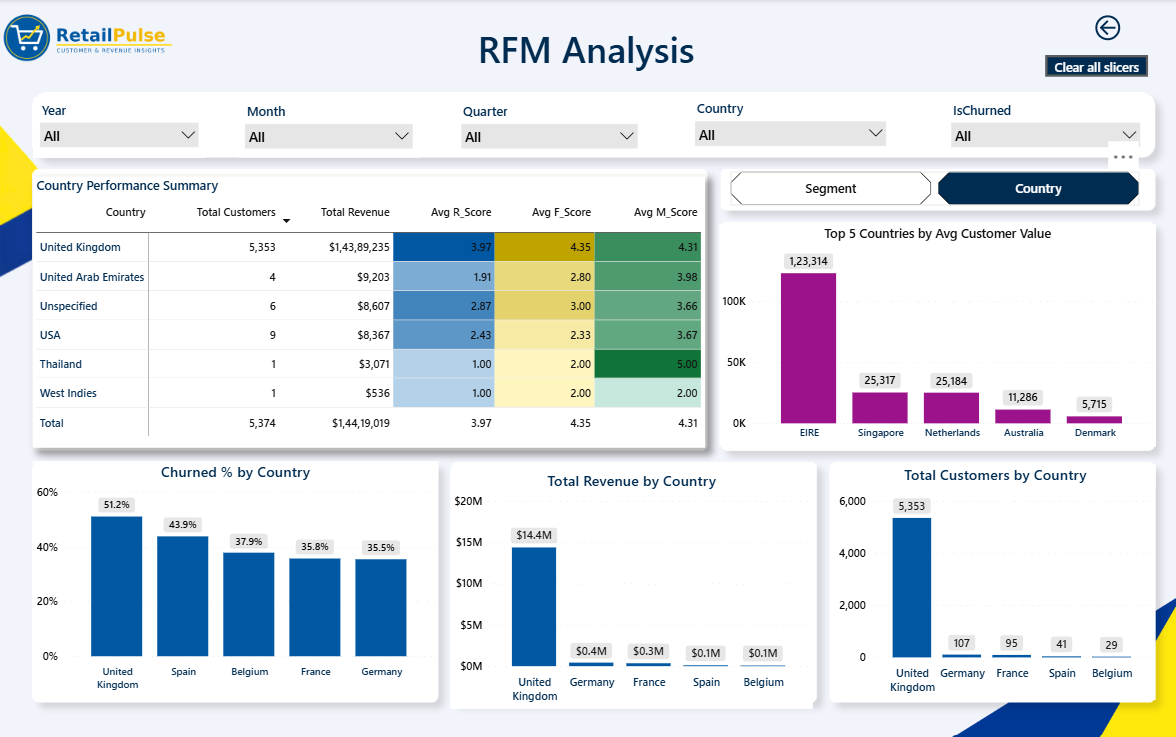

What the dashboard file says about the page in this screenshot:
{"tool":"powerbi","page":{"name":"RFM Analysis","canvas":[1750,1100],"ordinal":1},"visuals":[{"type":"slicer","fields":{"Values":["Sheet1.InvoiceDate.Variation.Date Hierarchy.Year"]},"box":[51.6,145.6,254.4,88.5],"z":0},{"type":"lineChart","fields":{"Category":["Sheet1.InvoiceMonth.Variation.Date Hierarchy.Month"],"Y":["Sheet1.Churned %"]},"box":[50.6,694.8,597.5,346.4],"z":0,"group":"g1"},{"type":"slicer","fields":{"Values":["Sheet1.InvoiceDate.Variation.Date Hierarchy.Month"]},"box":[353.9,147.5,267.3,86.6],"z":1000},{"type":"lineChart","fields":{"Category":["Sheet1.InvoiceMonth.Variation.Date Hierarchy.Quarter"],"Y":["Sheet1.Churned %"]},"box":[672.4,684.6,520.5,350.4],"z":1000,"group":"g1"},{"type":"slicer","fields":{"Values":["Sheet1.InvoiceDate.Variation.Date Hierarchy.Quarter"]},"box":[672.8,147.5,280.2,82.9],"z":2000},{"type":"pivotTable","title":"Segment Performance Summary","fields":{"Rows":["Sheet1.Segment"],"Values":["Sheet1.Total Customers","Sheet1.Total Revenue","Avg(Sheet1.R_Score)","Avg(Sheet1.F_Score)","Avg(Sheet1.M_Score)"]},"box":[51.3,259.3,991.1,405.1],"z":2000,"group":"g1"},{"type":"slicer","fields":{"Values":["Sheet1.Country"]},"box":[1017.4,143.8,302.3,88.5],"z":3000},{"type":"columnChart","title":"Segment by Avg Customer Value","fields":{"Category":["Sheet1.Segment"],"Y":["Sheet1.Avg Customers Value"]},"box":[1061.3,332.2,644.1,328.1],"z":3000,"group":"g1"},{"type":"slicer","fields":{"Values":["Sheet1.IsChurned"]},"box":[1395.3,145.6,298.6,84.8],"z":4000},{"type":"lineChart","fields":{"Category":["Sheet1.InvoiceMonth.Variation.Date Hierarchy.Year"],"Y":["Sheet1.Churned %"]},"box":[1233.5,682.6,471.9,348.4],"z":4000,"group":"g1"},{"type":"bookmarkNavigator","box":[1080.1,254.4,602.7,49.8],"z":6000},{"type":"image","box":[0,0,289.4,114.3],"z":7000},{"type":"textbox","title":"RFM Analysis","box":[414.7,36.9,905,129],"z":8000},{"type":"actionButton","box":[1561.2,0,151.1,84.8],"z":9000},{"type":"actionButton","box":[1544.6,82.9,151.1,31.3],"z":10000},{"type":"group","id":"g1","title":"Segment","box":[50.6,259.3,1654.8,781.8],"z":12000}]}

Visuals, with their boxes in screenshot pixels (x1, y1, x2, y2), scaled from the page's 1750x1100 canvas onto the 1176x737 screenshot:
slicer - Sheet1.InvoiceDate.Variation.Date Hierarchy.Year: pyautogui.locateOnScreen(35, 98, 206, 157)
lineChart - Sheet1.InvoiceMonth.Variation.Date Hierarchy.Month x Sheet1.Churned %: pyautogui.locateOnScreen(34, 466, 436, 698)
slicer - Sheet1.InvoiceDate.Variation.Date Hierarchy.Month: pyautogui.locateOnScreen(238, 99, 417, 157)
lineChart - Sheet1.InvoiceMonth.Variation.Date Hierarchy.Quarter x Sheet1.Churned %: pyautogui.locateOnScreen(452, 459, 802, 693)
slicer - Sheet1.InvoiceDate.Variation.Date Hierarchy.Quarter: pyautogui.locateOnScreen(452, 99, 640, 154)
"Segment Performance Summary" pivotTable: pyautogui.locateOnScreen(34, 174, 700, 445)
slicer - Sheet1.Country: pyautogui.locateOnScreen(684, 96, 887, 156)
"Segment by Avg Customer Value" columnChart: pyautogui.locateOnScreen(713, 223, 1146, 442)
slicer - Sheet1.IsChurned: pyautogui.locateOnScreen(938, 98, 1138, 154)
lineChart - Sheet1.InvoiceMonth.Variation.Date Hierarchy.Year x Sheet1.Churned %: pyautogui.locateOnScreen(829, 457, 1146, 691)
bookmarkNavigator: pyautogui.locateOnScreen(726, 170, 1131, 204)
image: pyautogui.locateOnScreen(0, 0, 194, 77)
"RFM Analysis" textbox: pyautogui.locateOnScreen(279, 25, 887, 111)
actionButton: pyautogui.locateOnScreen(1049, 0, 1151, 57)
actionButton: pyautogui.locateOnScreen(1038, 56, 1140, 77)
"Segment" group: pyautogui.locateOnScreen(34, 174, 1146, 698)
